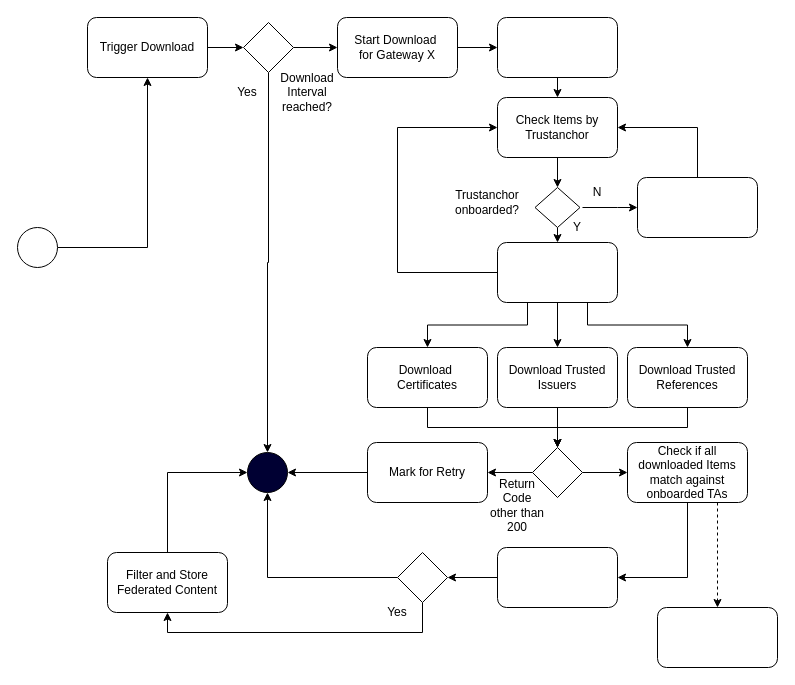
This 795x685 diagram has some shape labels left out. Each missing label, with the centre of its shape:
"Add Warning to Audit when No Match is detected" belongs at (717,637).
"Compare if Federated Content was already downloaded" belongs at (557,577).
"Download Trustlist" belongs at (557,47).
"Remove Items" belongs at (697,207).
"Store all trusted Items" belongs at (557,272).
